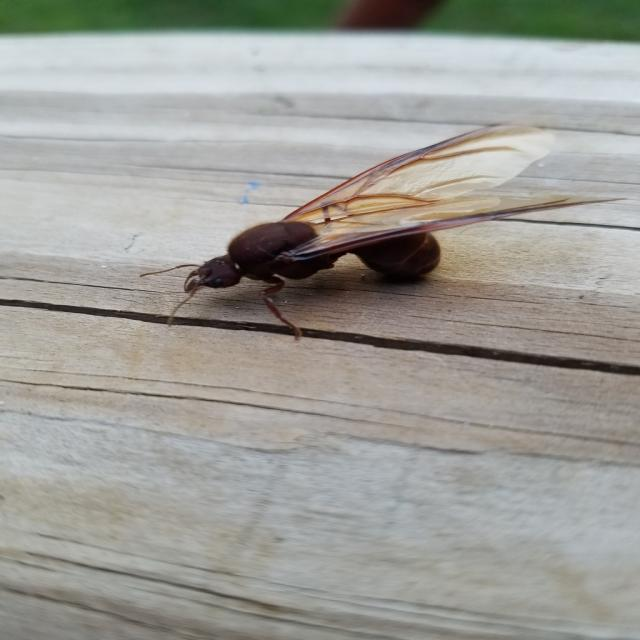Alive-Female-Alate: (142, 121, 630, 342)
